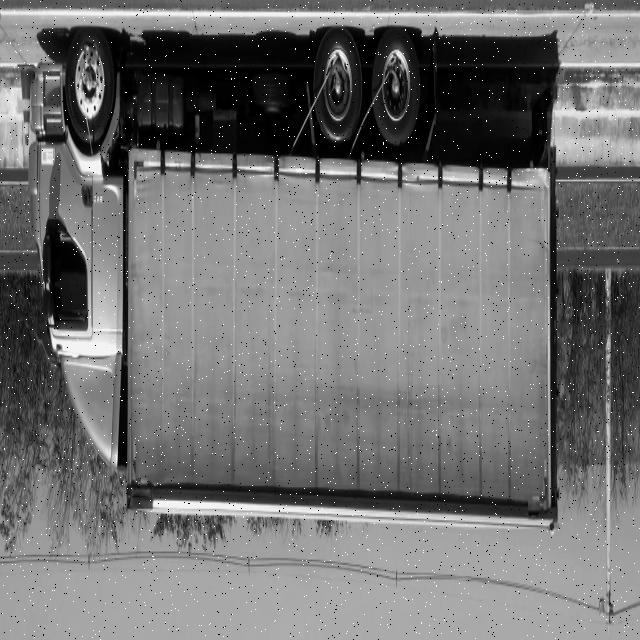-axle: (372, 24, 420, 145), (314, 29, 362, 140), (68, 26, 113, 143)
